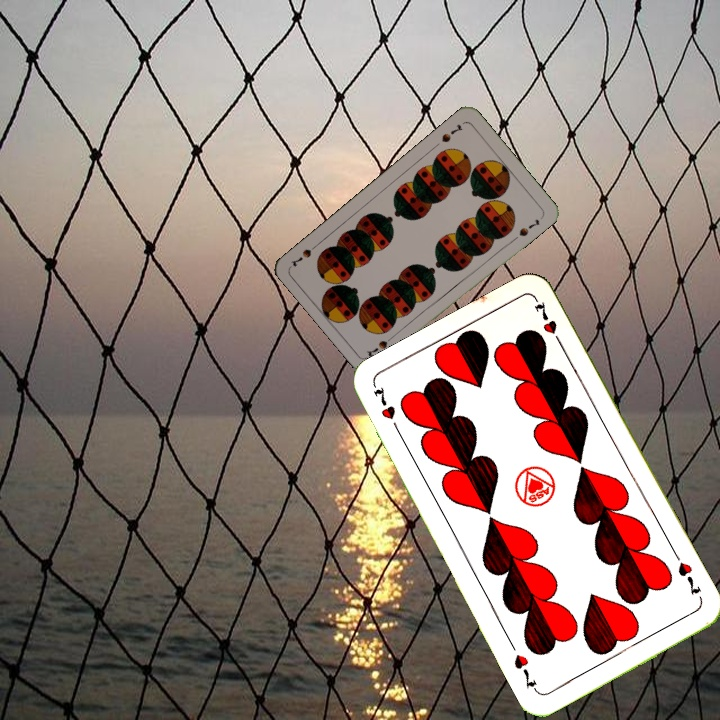H7: (369, 382, 404, 437), (674, 557, 704, 598)
S7: (363, 330, 398, 360), (437, 120, 465, 145)
